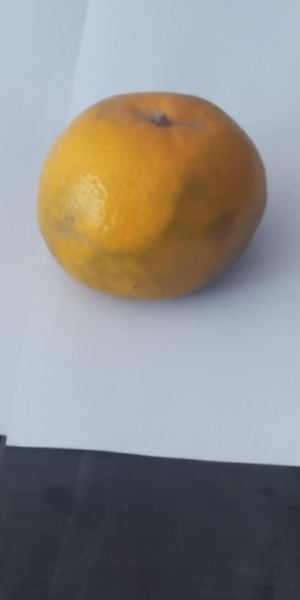BAD: (35, 87, 270, 308)
